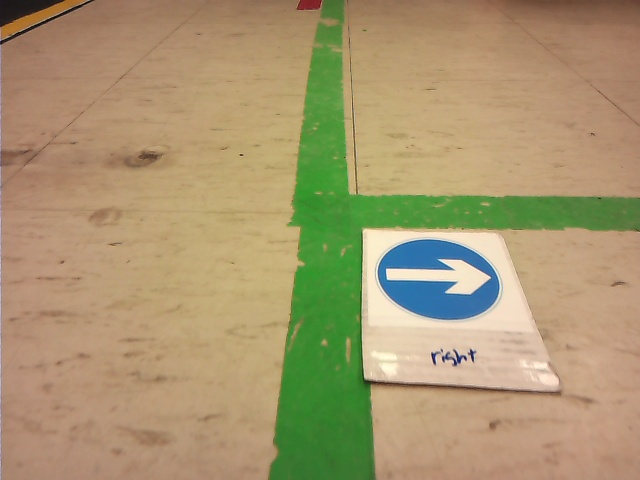TURN RIGHT: (377, 238, 500, 325)
